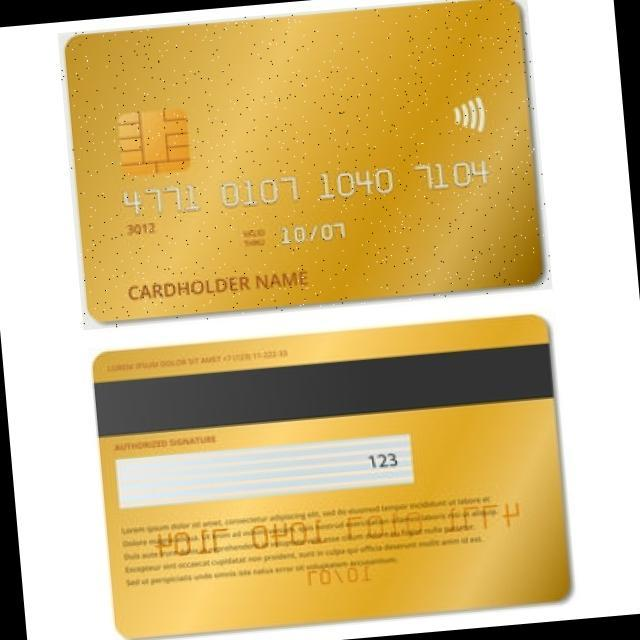payment_card: (59, 0, 545, 324), (90, 313, 573, 639)
